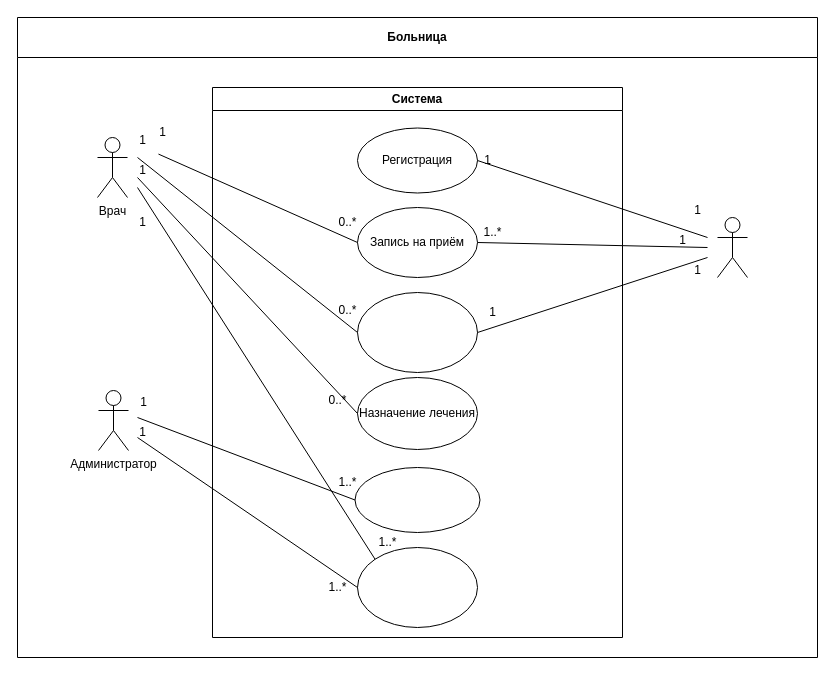
This 835x675 diagram has some shape labels left out. The centre of each missing label's shape, as x and y in pixels:
"Пациент" goes at (732,247).
"Просмотр мед. карты" goes at (417,332).
"Управление расписанием" goes at (417,499).
"Формирование отчетов" goes at (417,587).
